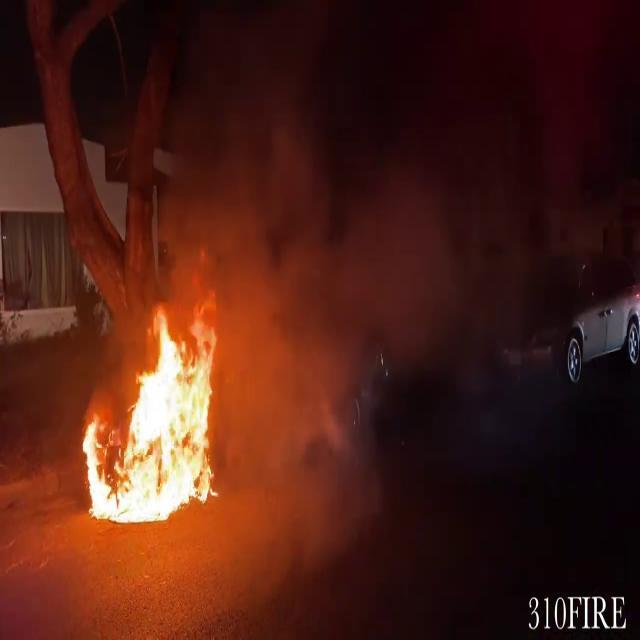Fire: (77, 288, 226, 532)
Smoke: (197, 31, 483, 548)
